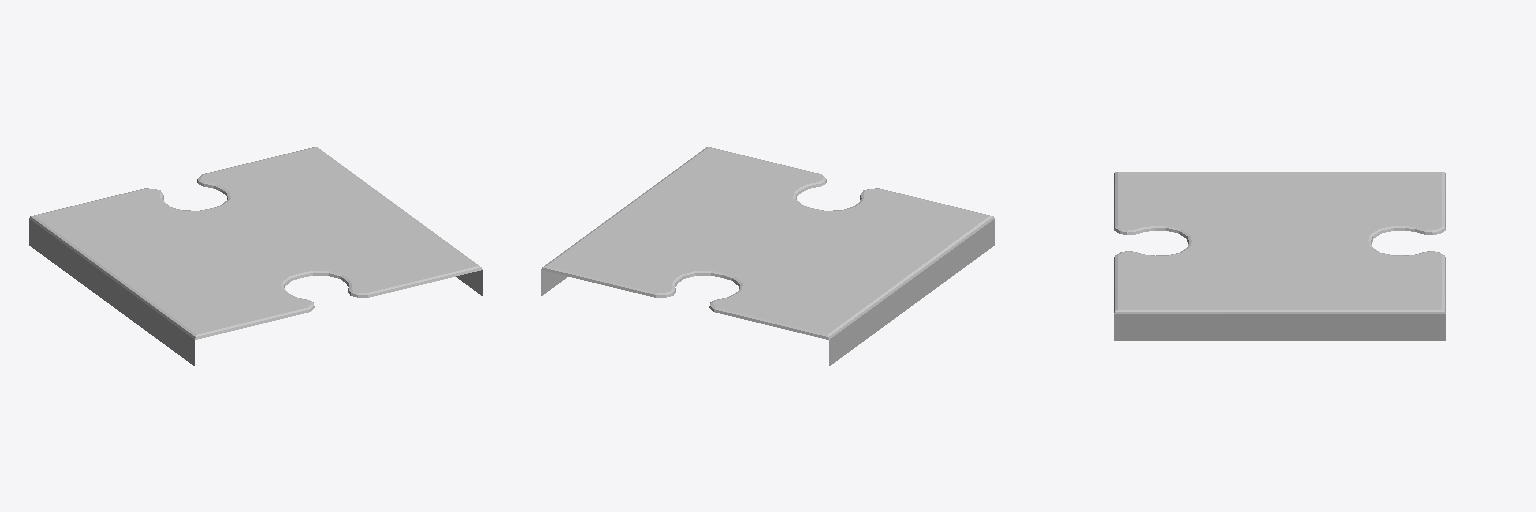
File: Vertical Dips.obj
The picture shows the model from 3 angles: view 1: azimuth 30°, elevation 25°; view 2: azimuth 150°, elevation 25°; view 3: azimuth 270°, elevation 25°; orthographic projection.
Parts seen in each view (by area): view 1: PuzzleStraightVerticalDips; view 2: PuzzleStraightVerticalDips; view 3: PuzzleStraightVerticalDips.
Boxes of the visible parts, x1,y1,x2,y2 form: PuzzleStraightVerticalDips: [29, 147, 482, 365]; PuzzleStraightVerticalDips: [541, 147, 994, 365]; PuzzleStraightVerticalDips: [1114, 172, 1445, 340].
Bounding box in the file's own units: 591 × 59.05 × 591.